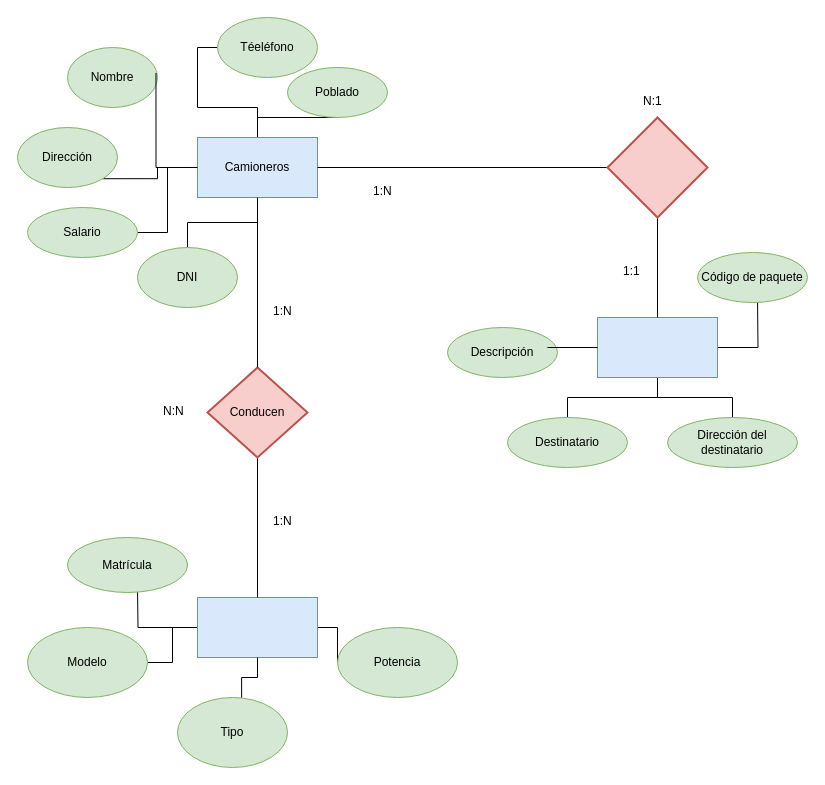
This 825x785 diagram has some shape labels left out. Here are the shapes that lost their labels. From the top down, the centre of each, then its label:
At (x=657, y=167): "Distribuyen".
At (x=657, y=347): "Paquetes".
At (x=257, y=627): "Camiones".
